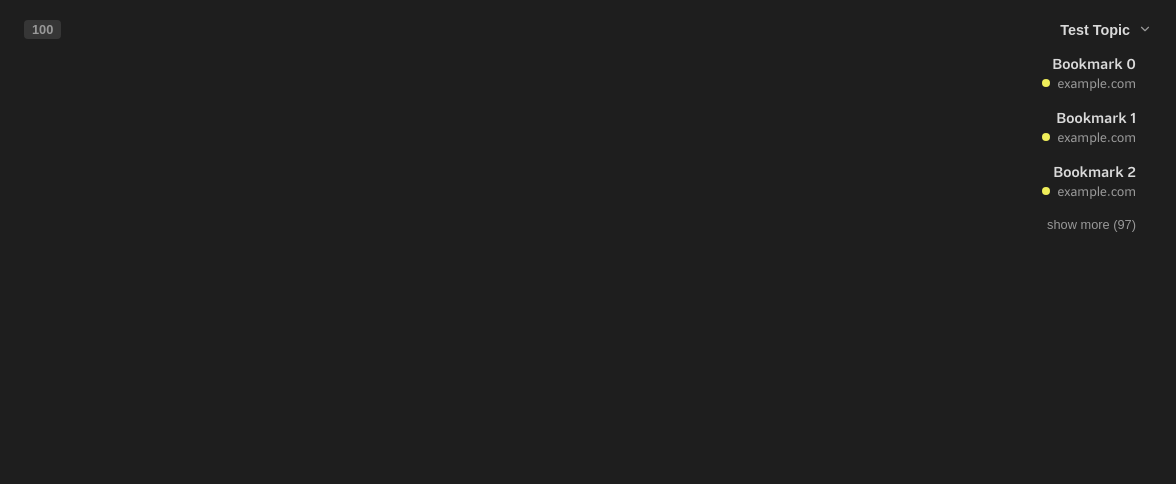
Test: TopicGroup › uses virtualization for large lists when showAll is toggled
Click the button with class "topic-show-more".
click(1092, 224)  # box 12,209 -> 1148,240
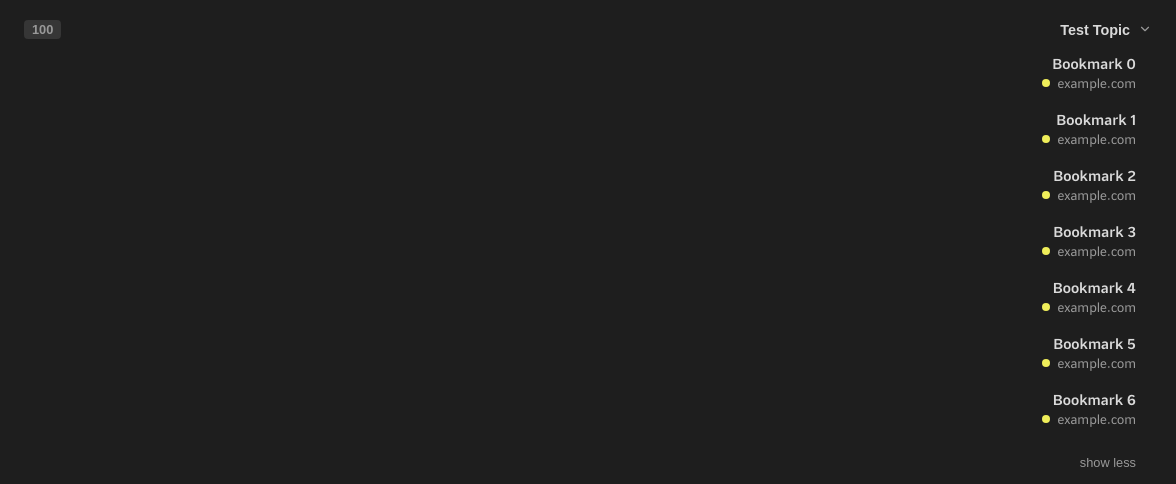
expect the element with class "topic-group-virtual-list" is shown: met, box 1042,55 -> 1136,465
